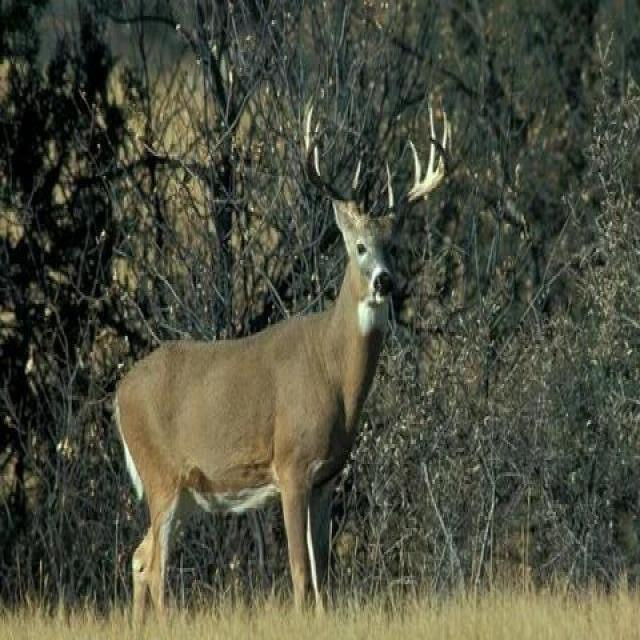deer: (117, 78, 460, 582)
